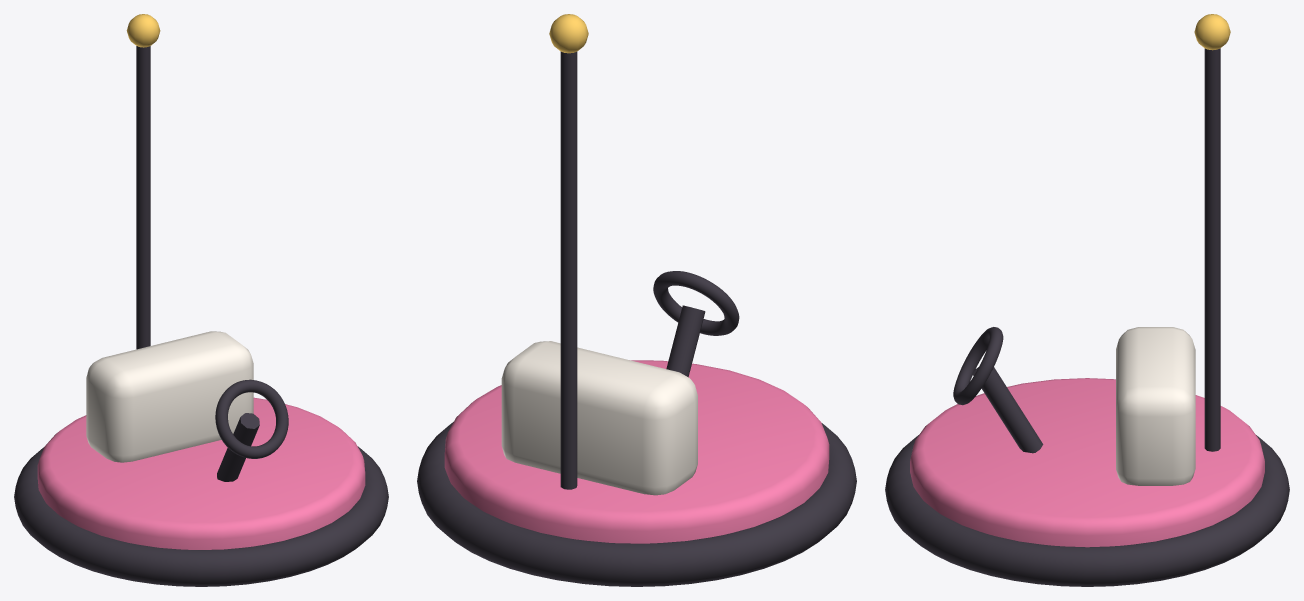
The model's file is bumper_car.glb.
The picture shows the model from 3 angles, left to right: view 1: azimuth 30°, elevation 25°; view 2: azimuth 150°, elevation 25°; view 3: azimuth 270°, elevation 25°; orthographic projection. The views are drawn at different scales.
Visible parts, largest first — view 1: bumper_car; view 2: bumper_car; view 3: bumper_car.
Boxes of the visible parts, x1=… form: bumper_car: x1=14, y1=14, x2=388, y2=586; bumper_car: x1=417, y1=14, x2=856, y2=586; bumper_car: x1=885, y1=14, x2=1289, y2=586.
Bounding box in the file's own units: 1.78 × 2.42 × 1.78.
